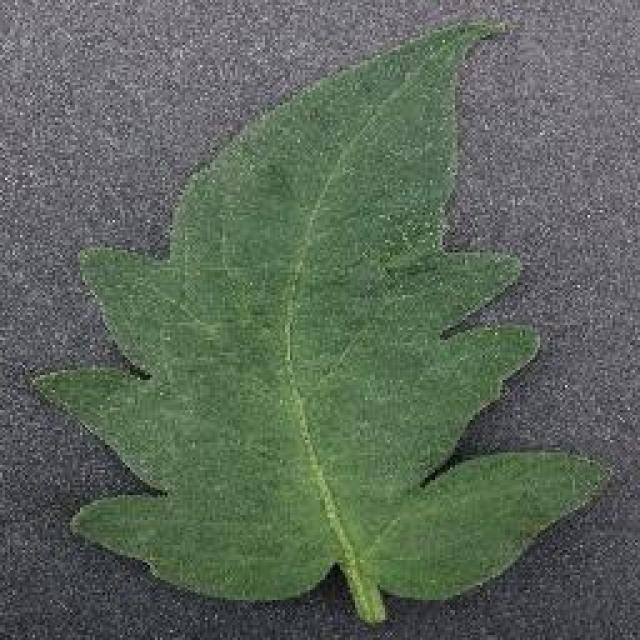Tomato_Healthy: (20, 22, 622, 601)
